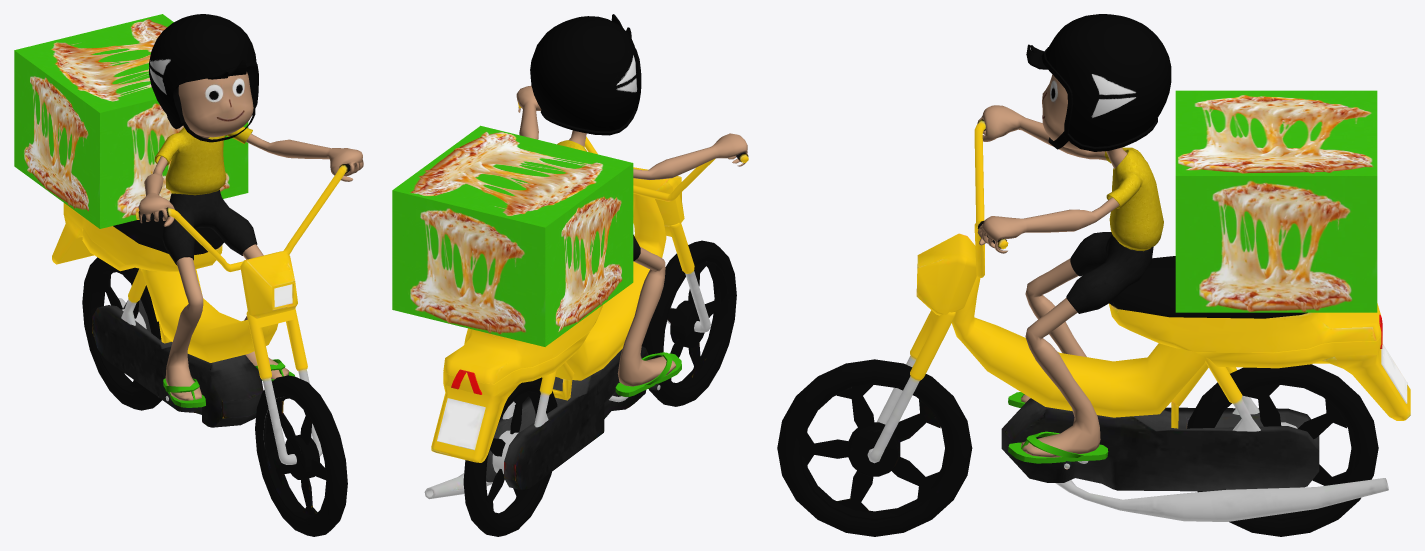
Rendered from devBoy-transformed.glb.
3 renders of one model, left to right at view 1: azimuth 30°, elevation 25°; view 2: azimuth 150°, elevation 25°; view 3: azimuth 270°, elevation 25°, orthographic. The views are drawn at different scales.
Parts seen in each view (by area): view 1: puch03, boy; view 2: puch03, boy; view 3: puch03, boy.
Boxes of the visible parts, x1,y1,x2,y2 form: puch03: (14,14,350,536); boy: (138,14,363,407); puch03: (392,103,748,536); boy: (516,14,747,396); puch03: (777,90,1410,536); boy: (977,14,1171,463).
Bounding box in the file's own units: 0.449 × 0.8356 × 0.9276.
Materials: 2 (2 with a texture image).
